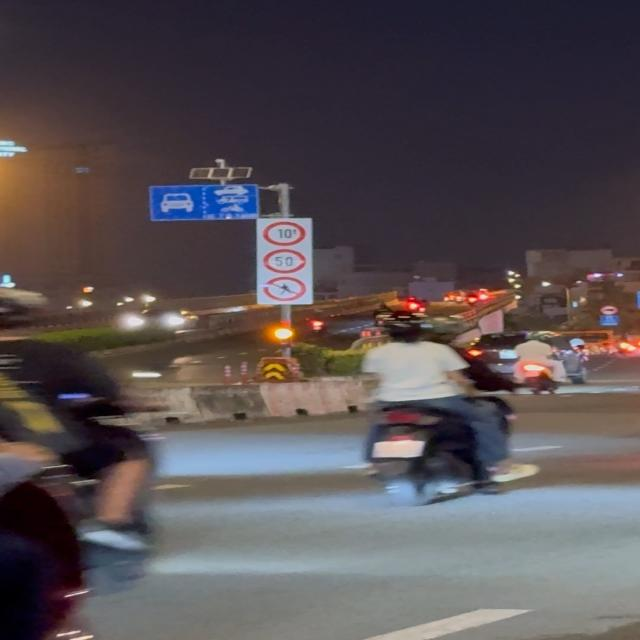Bien bao cam nguoi di bo: (263, 275, 310, 303)
Bien bao toc do toi da cho phep: (262, 249, 308, 275)
